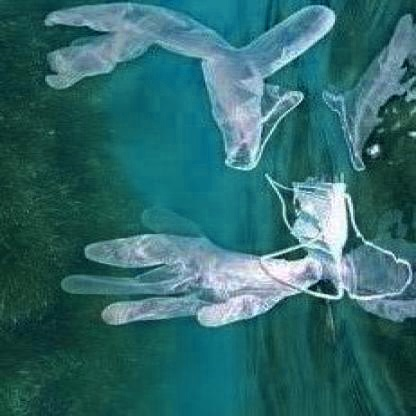Mask: (261, 169, 355, 289)
glove: (45, 0, 335, 178), (52, 204, 301, 332)
